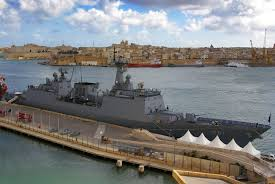tau_muctieu: (17, 59, 271, 145)
